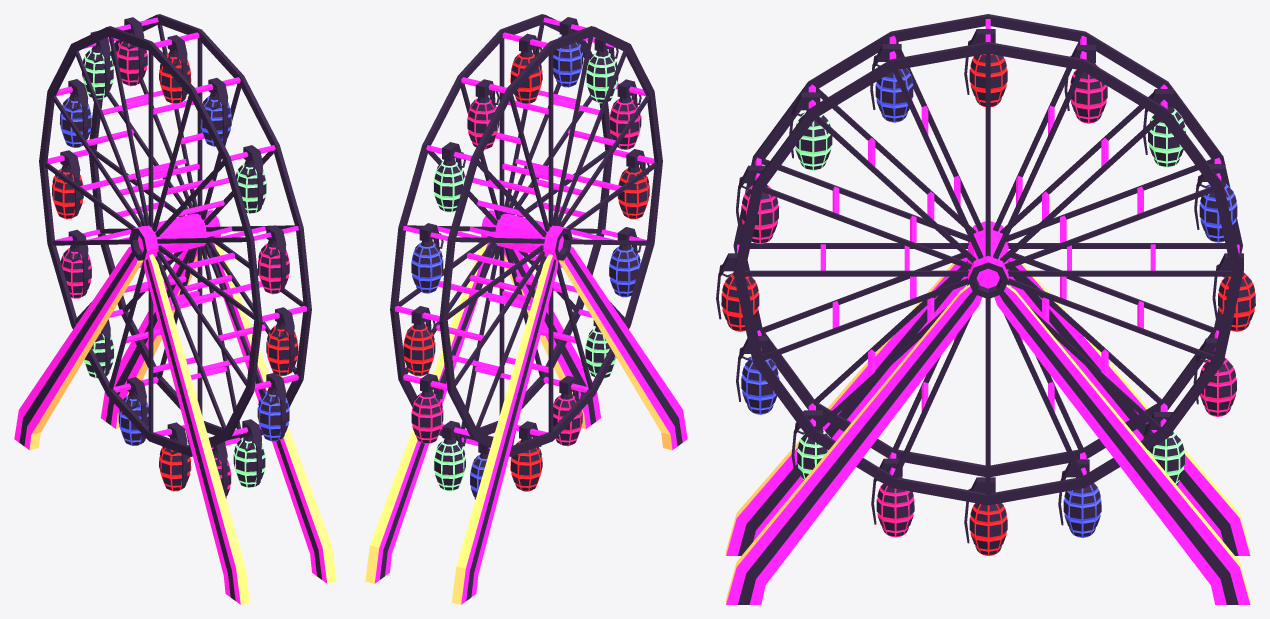
The model's file is Circle_anim.gltf.
3 renders of one model, left to right at view 1: azimuth 30°, elevation 25°; view 2: azimuth 150°, elevation 25°; view 3: azimuth 270°, elevation 25°, orthographic. The views are drawn at different scales.
Parts seen in each view (by area): view 1: Cube.016, Circle.005, Circle.003, Circle.002, Circle.004, Cube, Cylinder, Cube.010, Cube.011, Cube.001, Cube.008, Cube.002 (+26 smaller); view 2: Cube.016, Circle.004, Circle.002, Circle.005, Circle.003, Cube, Cylinder, Cube.006, Cube.005, Cube.015, Cube.008, Cube.013 (+26 smaller); view 3: Cube.016, Circle.004, Circle.005, Circle.002, Circle.003, Cube.013, Cube.003, Cube.005, Cube.011, Cube.012, Cube.004, Cube.014 (+26 smaller).
Part boxes in pixels (x1=…): Cube.016: x1=14, y1=242, x2=336, y2=604; Circle.005: x1=149, y1=29, x2=311, y2=322; Circle.003: x1=39, y1=154, x2=180, y2=440; Circle.002: x1=149, y1=309, x2=311, y2=456; Circle.004: x1=39, y1=14, x2=201, y2=164; Cube: x1=148, y1=32, x2=202, y2=227; Cylinder: x1=129, y1=210, x2=220, y2=260; Cube.010: x1=155, y1=243, x2=265, y2=436; Cube.011: x1=157, y1=242, x2=298, y2=390; Cube.001: x1=108, y1=17, x2=197, y2=225; Cube.008: x1=148, y1=246, x2=202, y2=435; Cube.002: x1=74, y1=37, x2=194, y2=225; Cube.016: x1=365, y1=242, x2=687, y2=604; Circle.004: x1=390, y1=29, x2=552, y2=322; Circle.002: x1=521, y1=154, x2=662, y2=440; Circle.005: x1=500, y1=14, x2=662, y2=164; Circle.003: x1=390, y1=309, x2=552, y2=456; Cube: x1=499, y1=32, x2=553, y2=227; Cylinder: x1=481, y1=210, x2=572, y2=260; Cube.006: x1=439, y1=243, x2=546, y2=436; Cube.005: x1=403, y1=242, x2=544, y2=390; Cube.015: x1=504, y1=17, x2=593, y2=225; Cube.008: x1=499, y1=246, x2=553, y2=435; Cube.013: x1=511, y1=83, x2=649, y2=226; Cube.016: x1=726, y1=249, x2=1250, y2=604; Circle.004: x1=988, y1=14, x2=1242, y2=274; Circle.005: x1=733, y1=14, x2=988, y2=274; Circle.002: x1=733, y1=246, x2=988, y2=505; Circle.003: x1=988, y1=246, x2=1242, y2=505; Cube.013: x1=755, y1=157, x2=971, y2=269; Cube.003: x1=1004, y1=157, x2=1221, y2=269; Cube.005: x1=1007, y1=253, x2=1219, y2=360; Cube.011: x1=757, y1=250, x2=968, y2=360; Cube.012: x1=737, y1=243, x2=968, y2=276; Cube.004: x1=1007, y1=243, x2=1239, y2=276; Cube.014: x1=808, y1=84, x2=976, y2=263.
Bounding box in the file's own units: 6.29 × 29.73 × 26.49.
2 materials, 2 textured.
